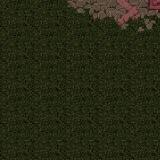Hide: (115, 0, 160, 63)
Obstacle: (64, 0, 160, 40)
